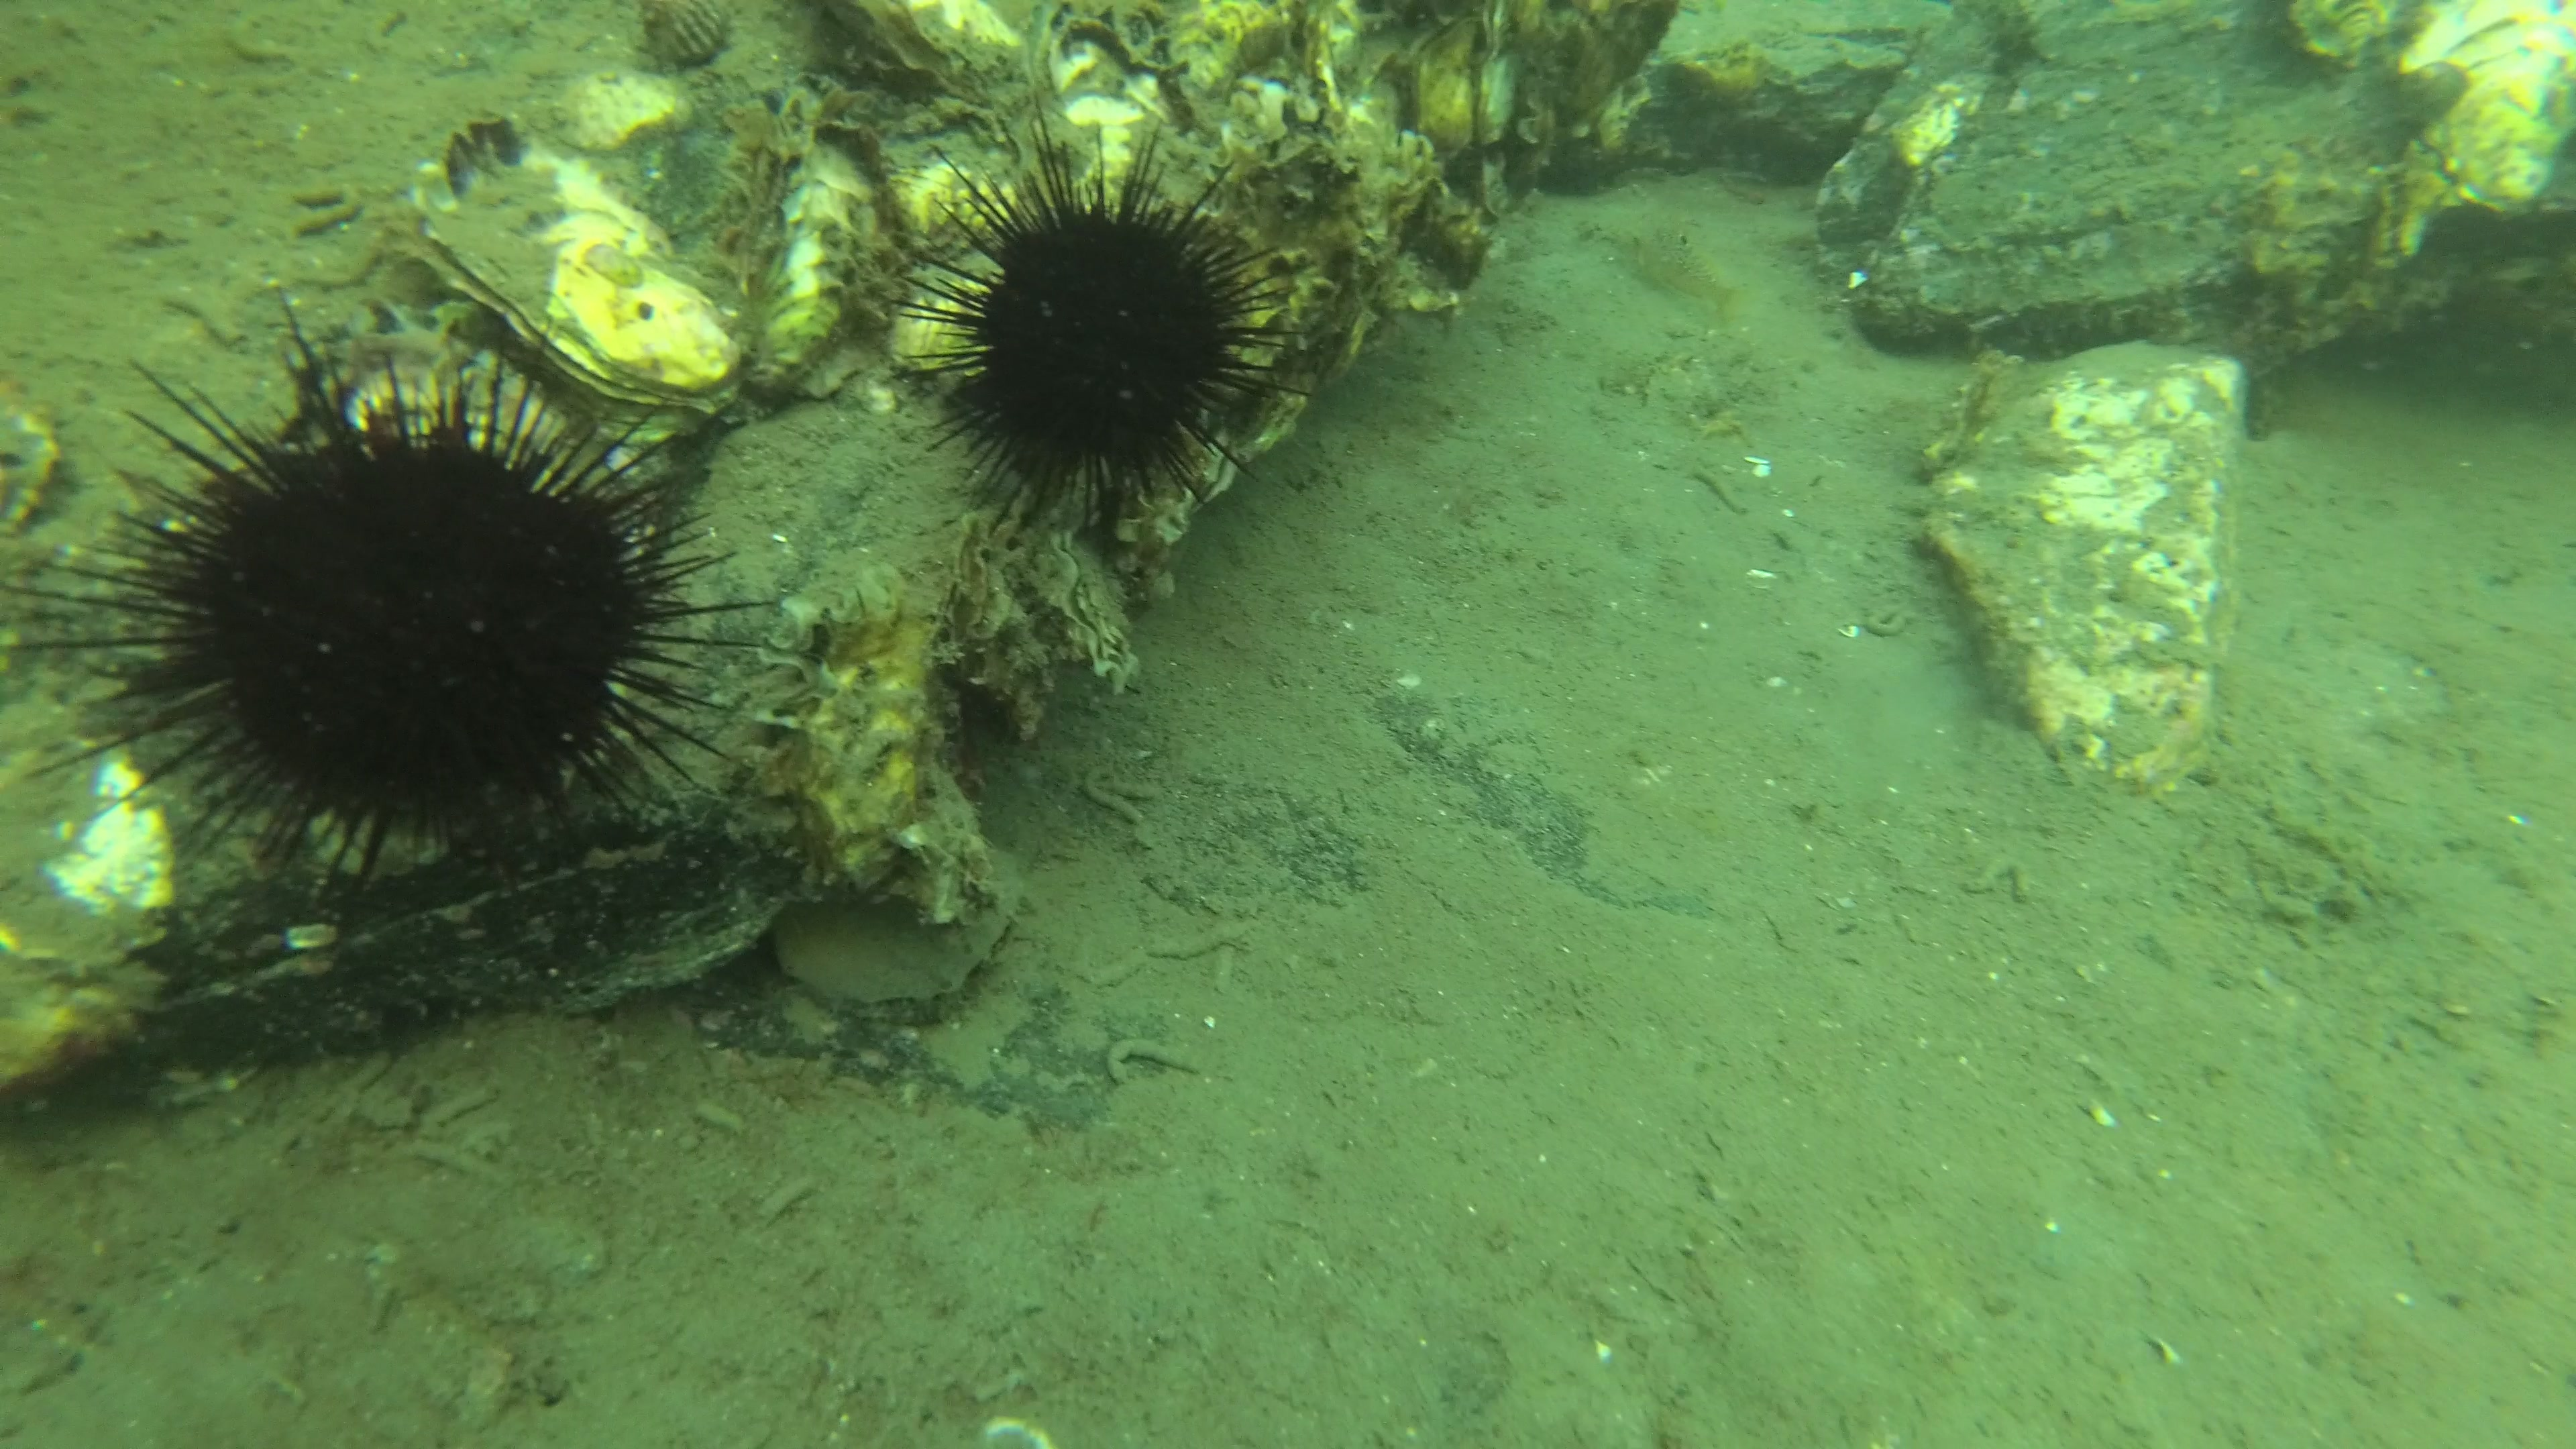echinus: (11, 283, 771, 922), (879, 106, 1297, 545)
